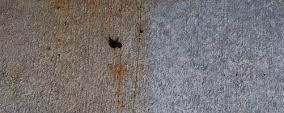Corrosion: (1, 1, 152, 113)
Spalling: (107, 35, 123, 49)
